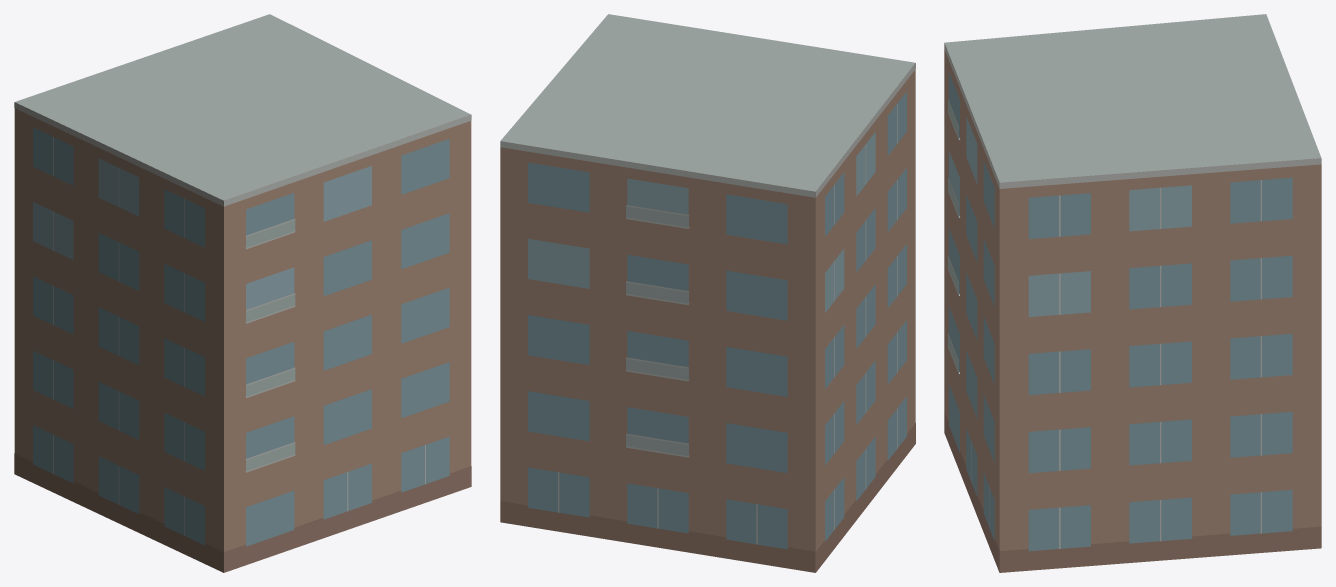
File: survey-upis-32574740.glb
3 renders of one model, left to right at view 1: azimuth 30°, elevation 25°; view 2: azimuth 150°, elevation 25°; view 3: azimuth 270°, elevation 25°, orthographic. The views are drawn at different scales.
Visible parts, largest first — view 1: survey-upis-32574740.tmp; view 2: survey-upis-32574740.tmp; view 3: survey-upis-32574740.tmp.
Boxes of the visible parts, left/top/right/bottom form: survey-upis-32574740.tmp: left=14, top=14, right=471, bottom=572; survey-upis-32574740.tmp: left=500, top=14, right=915, bottom=572; survey-upis-32574740.tmp: left=944, top=14, right=1321, bottom=572.
Size of the model in its own units: 14.15 by 15.25 by 13.37.
